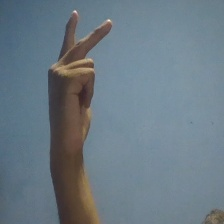K: (44, 8, 116, 166)
